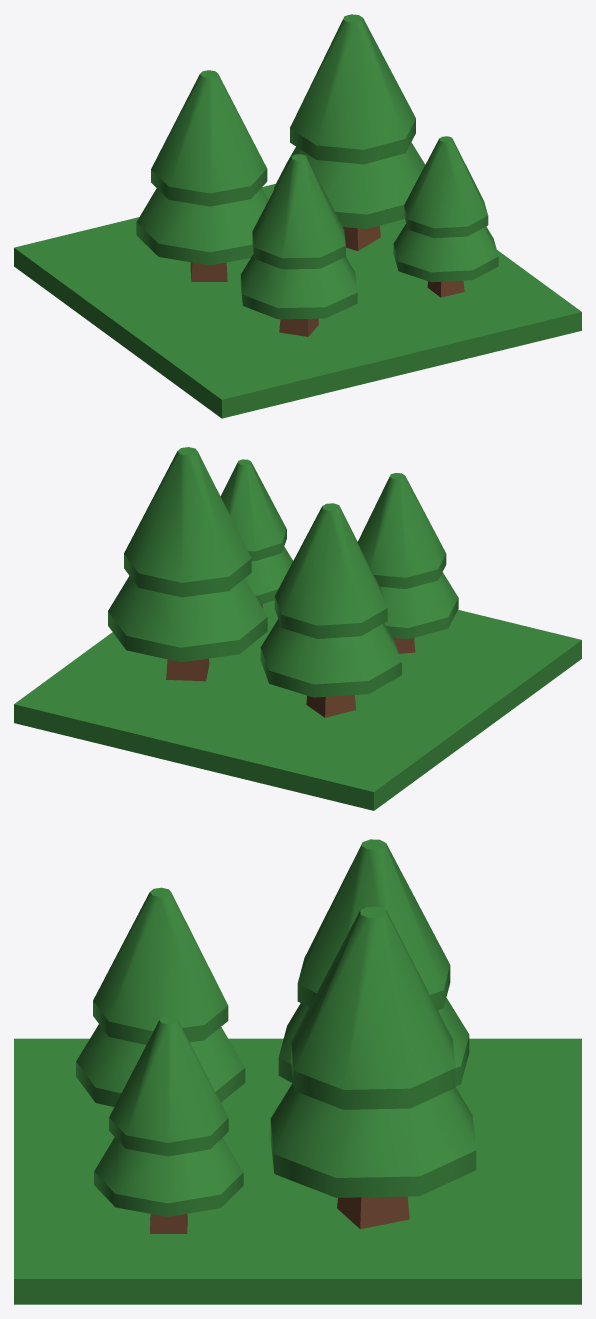
File: grass-trees.glb
3 renders of one model, top to bottom at view 1: azimuth 30°, elevation 25°; view 2: azimuth 150°, elevation 25°; view 3: azimuth 270°, elevation 25°, orthographic. The views are drawn at different scales.
Parts seen in each view (by area): view 1: grass-trees; view 2: grass-trees; view 3: grass-trees.
Boxes of the visible parts, x1,y1,x2,y2 form: grass-trees: (14, 14, 581, 418); grass-trees: (14, 447, 581, 810); grass-trees: (14, 839, 581, 1304).
Size of the model in its own units: 10 by 6.36 by 10.
